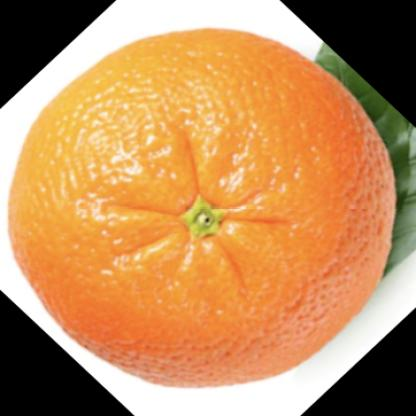fresh: (6, 29, 398, 387)
